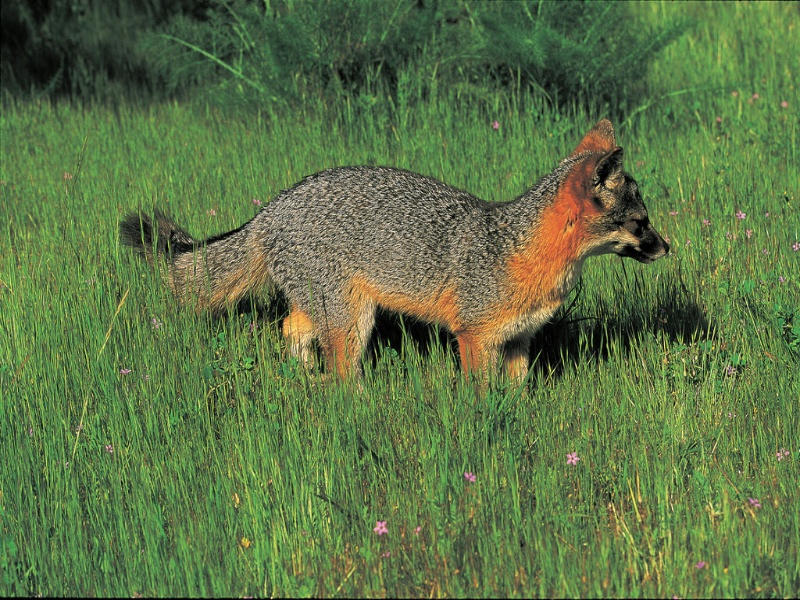fox: (108, 113, 671, 392)
